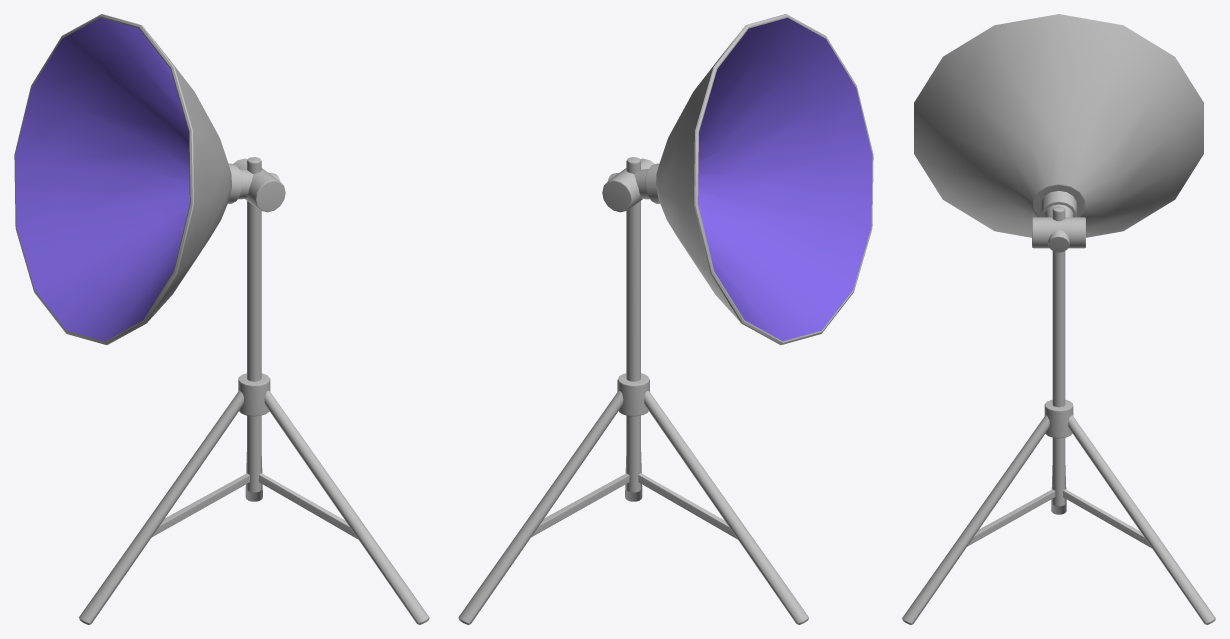
Rendered from SM_LightSetLitte_01.fbx.
3 views of the same model, side by side, from view 1: azimuth 30°, elevation 25°; view 2: azimuth 150°, elevation 25°; view 3: azimuth 270°, elevation 25° (orthographic). The views are drawn at different scales.
Visible parts, largest first — view 1: pCylinder60, pCylinder61, pCylinder58; view 2: pCylinder60, pCylinder61, pCylinder58; view 3: pCylinder60, pCylinder61, pCylinder58.
Part boxes in pixels (x1=…): pCylinder60: x1=14, y1=14, x2=279, y2=345; pCylinder61: x1=79, y1=157, x2=429, y2=624; pCylinder58: x1=233, y1=158, x2=285, y2=212; pCylinder60: x1=608, y1=14, x2=873, y2=345; pCylinder61: x1=458, y1=157, x2=808, y2=624; pCylinder58: x1=602, y1=158, x2=654, y2=212; pCylinder60: x1=914, y1=14, x2=1203, y2=252; pCylinder61: x1=902, y1=206, x2=1215, y2=624; pCylinder58: x1=1032, y1=217, x2=1085, y2=248.
Bounding box in the file's own units: 95.76 × 191 × 104.
